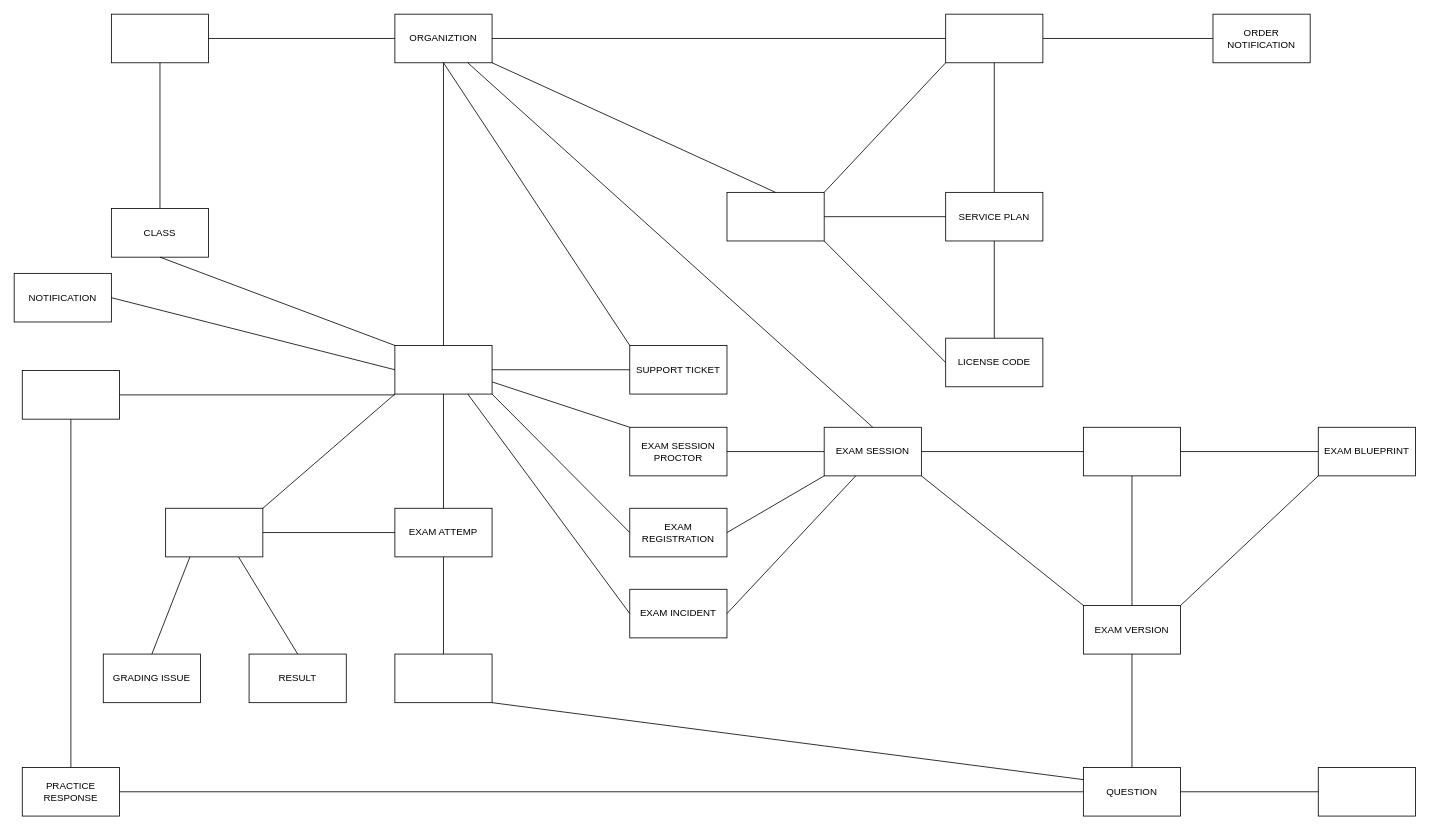
Some shapes in this 1430 by 830 pixel diagram are drawn without their labels. The shapes that lost their labels are listed below. From the top down, each one's box as (x1, y1, x2, y2) in pixels, then its label:
(111, 13, 209, 63): PROGRAM
(945, 13, 1043, 63): ORDER
(726, 192, 824, 241): SUBSCRIPTION
(394, 345, 492, 394): USER
(21, 370, 119, 419): PRACTICE SESSION
(1083, 426, 1181, 476): EXAM DEFINITION
(165, 507, 263, 557): GRADING ASSIGNMENT
(394, 653, 492, 703): ATTEMP ANSWER
(1317, 767, 1415, 816): QUESTION TYPE
